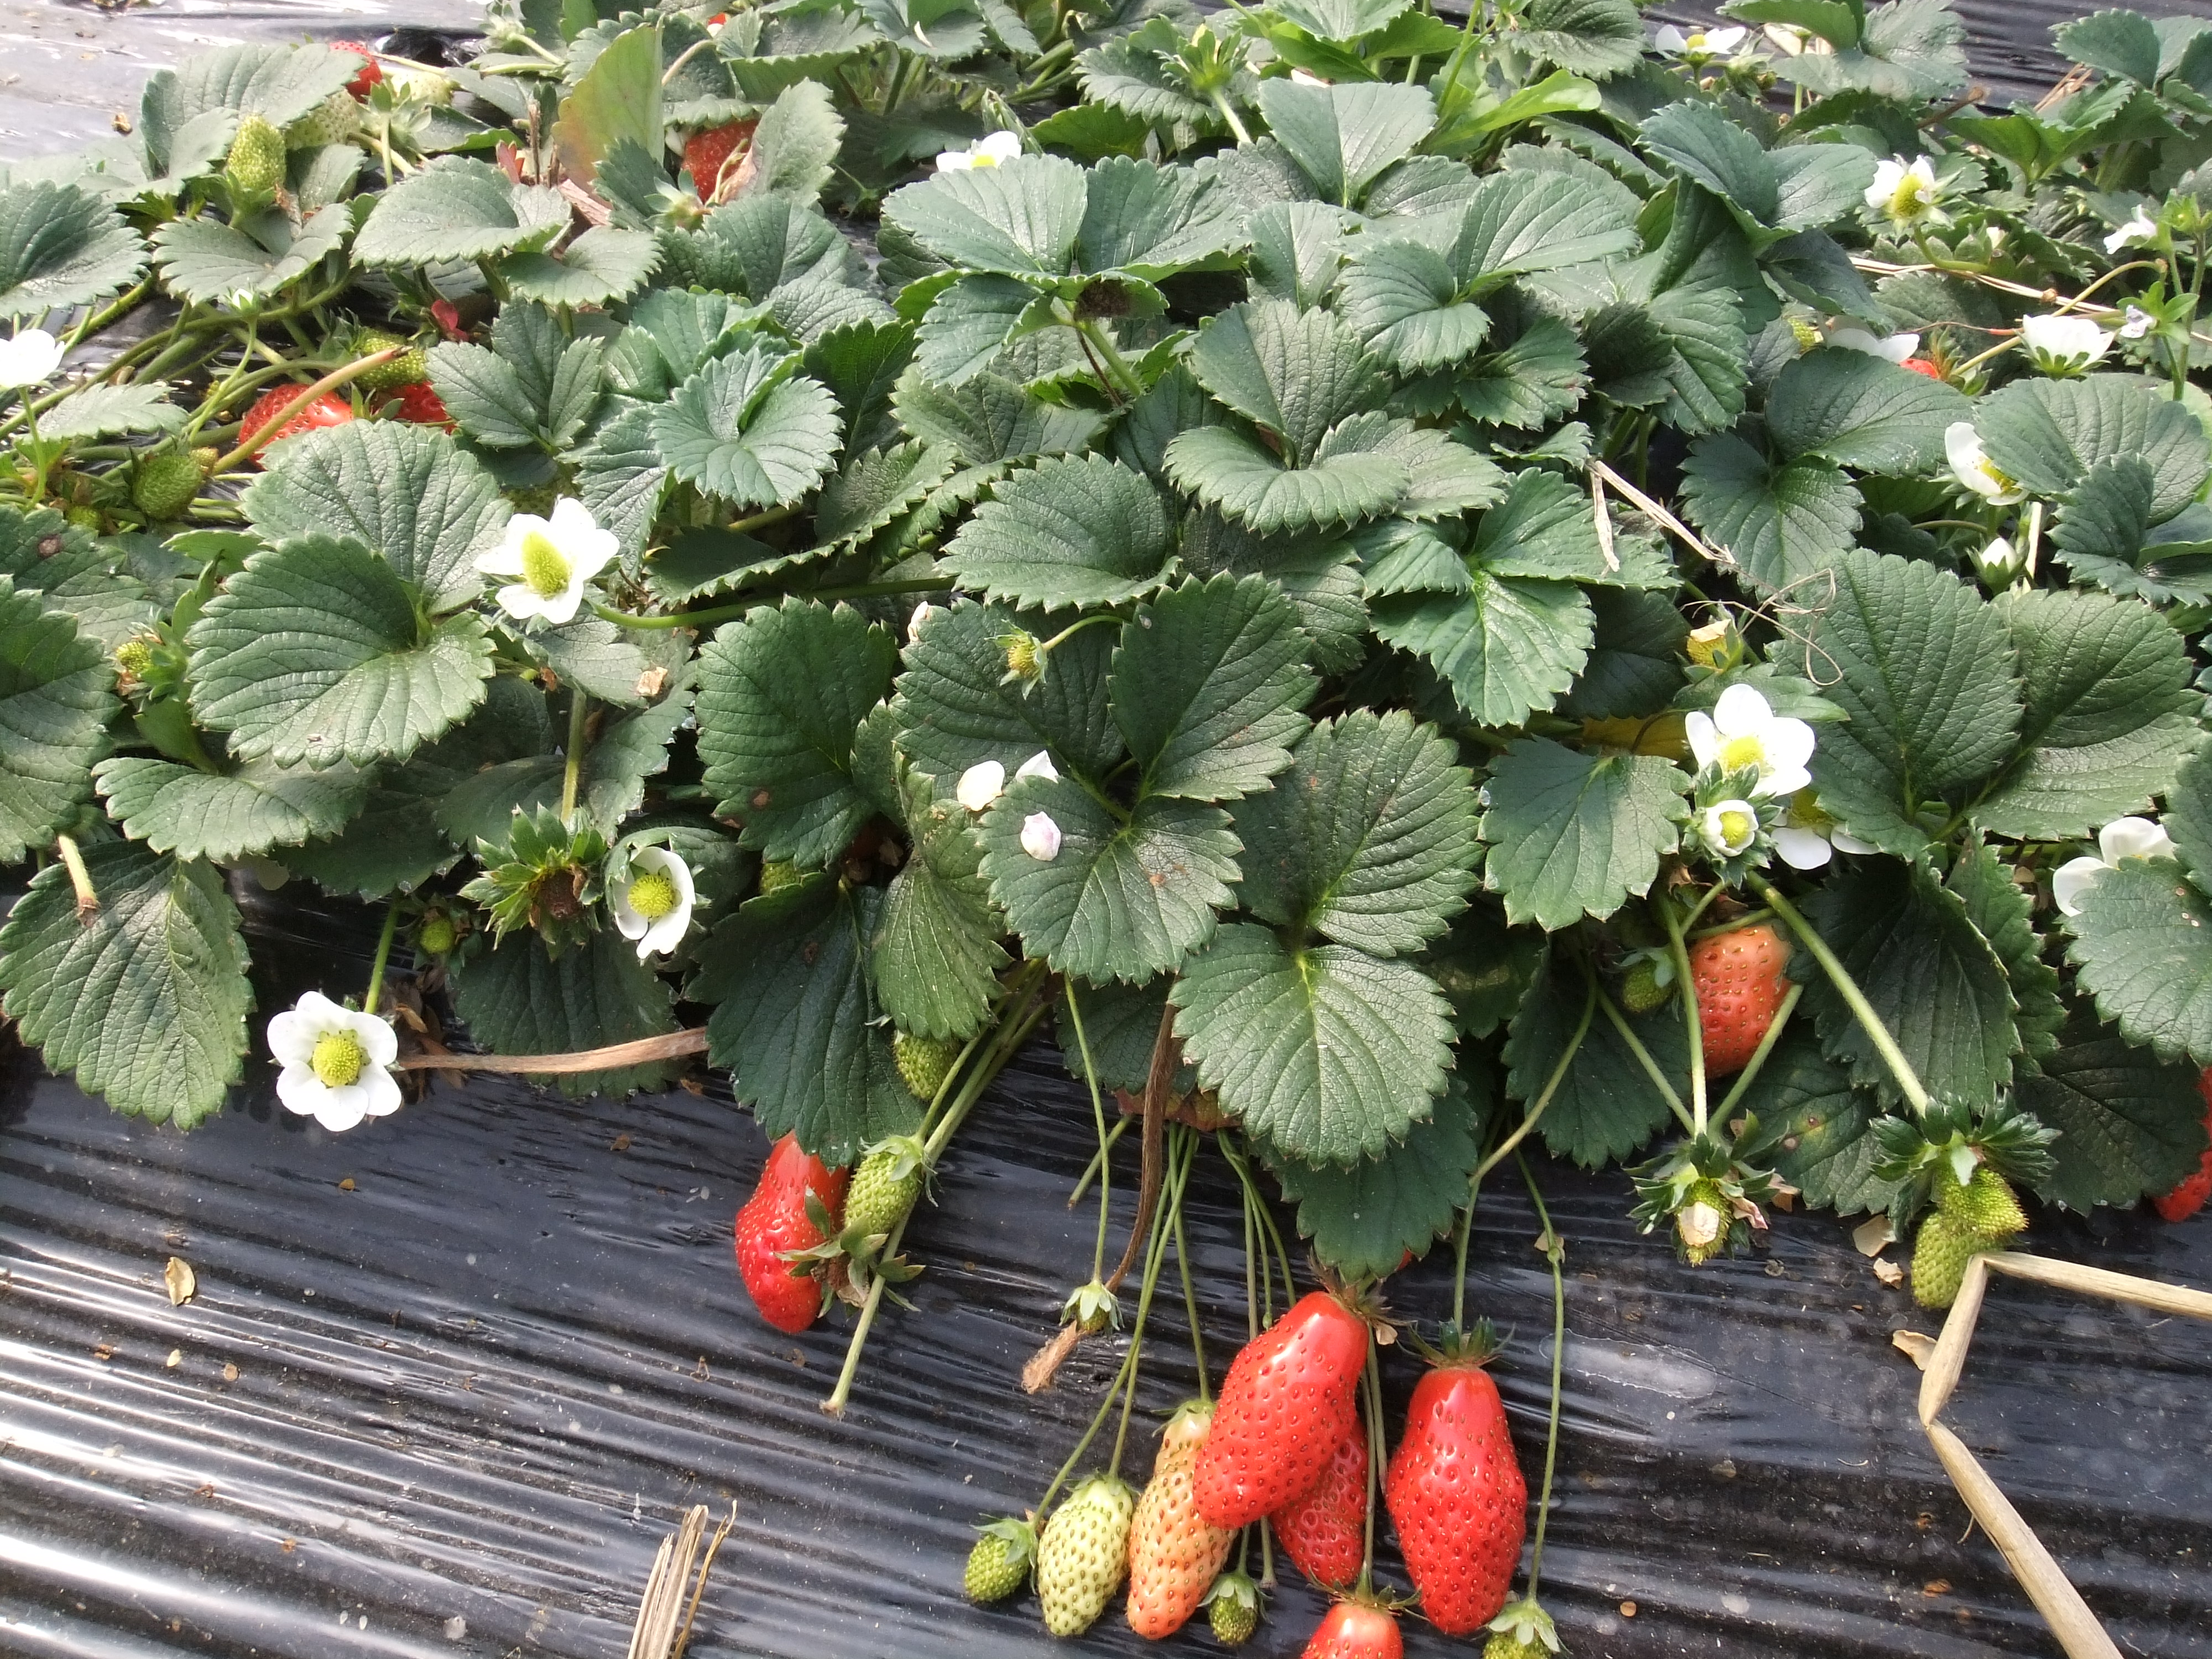StrawberryFusiform: (1191, 1281, 1369, 1530), (1385, 1358, 1545, 1629), (707, 1115, 855, 1344)
StrawberryIrremovable: (1129, 1391, 1237, 1638), (1679, 904, 1797, 1077), (1040, 1460, 1134, 1640), (1902, 1197, 1991, 1309), (1944, 1157, 2041, 1256), (843, 1134, 928, 1244), (211, 122, 301, 216), (954, 1507, 1040, 1607), (319, 322, 432, 394), (120, 444, 216, 526), (890, 1004, 968, 1103), (1660, 1166, 1737, 1260), (740, 835, 829, 910), (1620, 938, 1679, 1012), (409, 904, 470, 974), (1204, 1577, 1263, 1640), (993, 627, 1054, 687), (108, 626, 164, 674)
StrawberryOther: (219, 342, 474, 479), (1275, 1422, 1379, 1593), (653, 98, 796, 213), (2118, 1065, 2209, 1220), (1294, 1574, 1418, 1657), (310, 23, 413, 112)
StrawberryRemovable: (1197, 1281, 1374, 1527), (1388, 1358, 1540, 1629), (230, 347, 465, 474), (719, 1124, 848, 1337), (1277, 1424, 1385, 1591), (658, 98, 791, 216), (2123, 1060, 2209, 1220), (1291, 1572, 1413, 1657), (319, 26, 401, 99)
